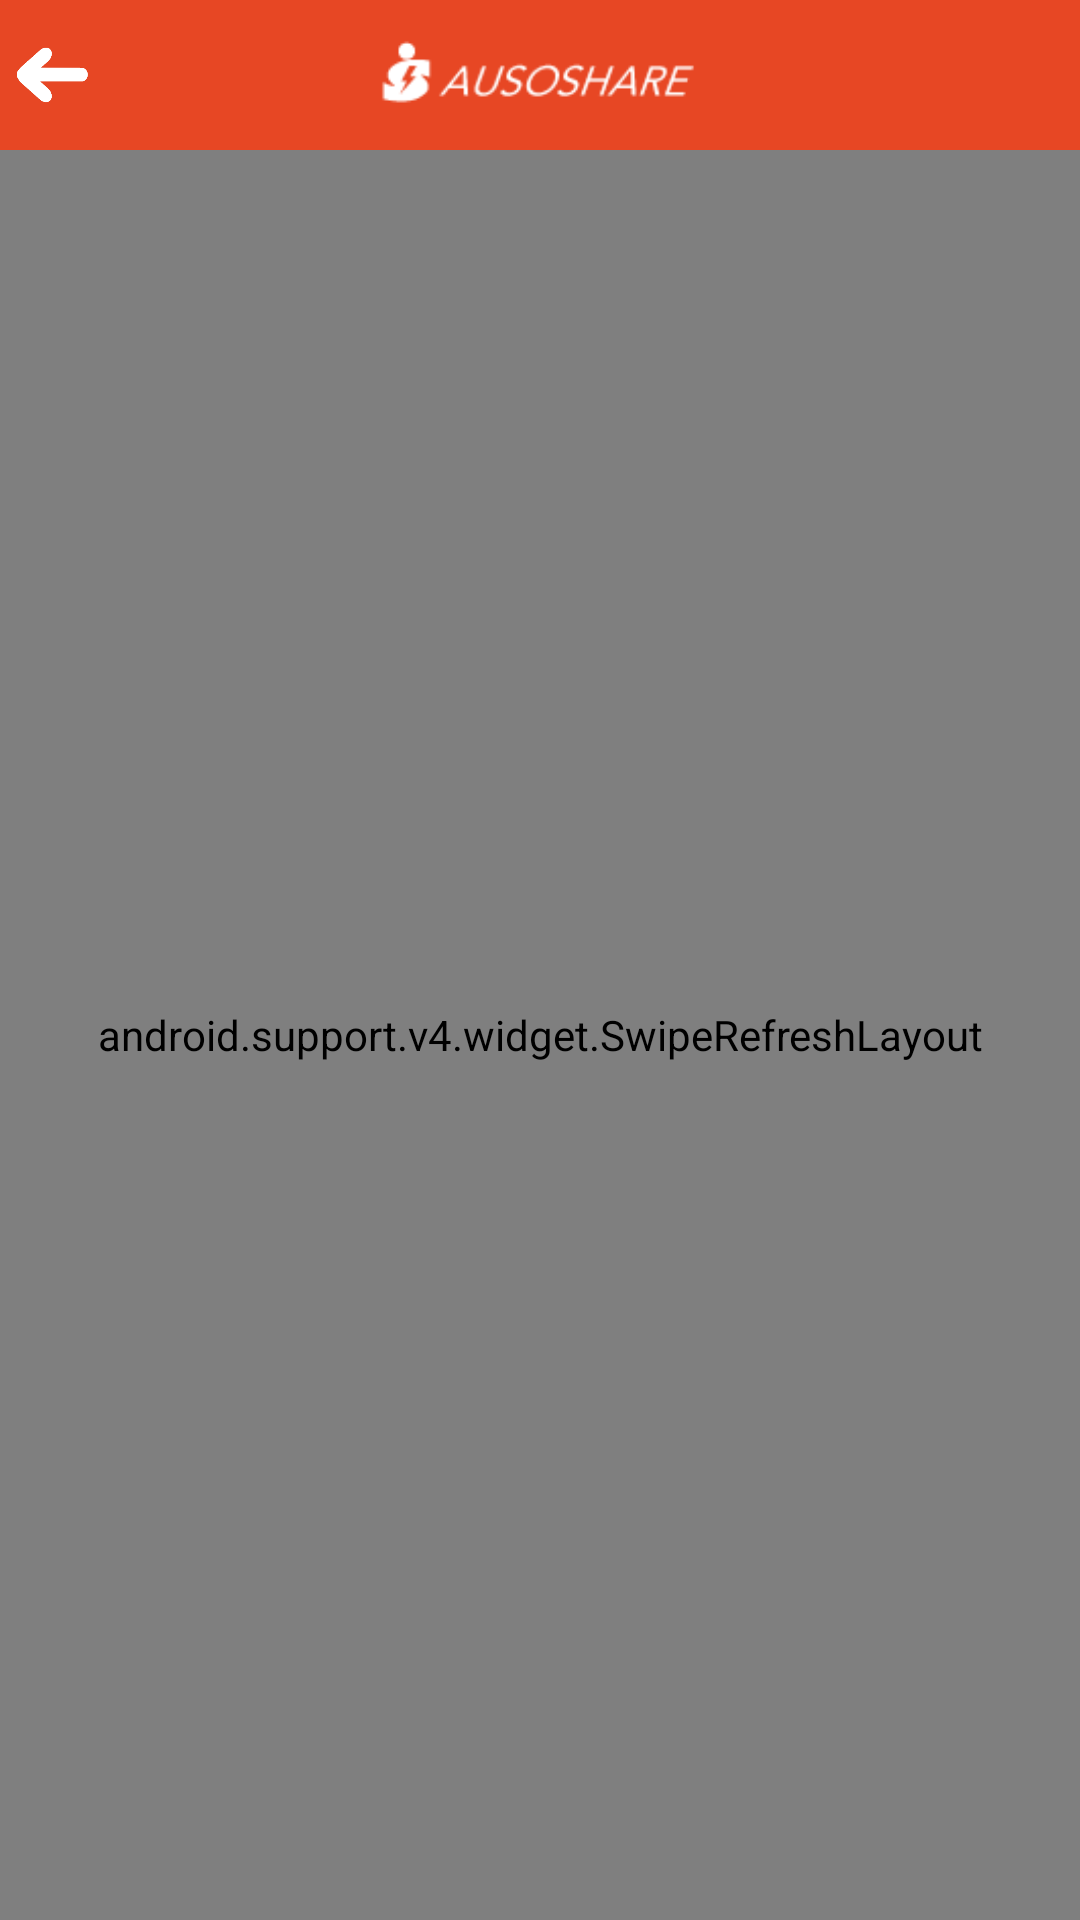

Icons on this 1080px×1920px Android screen, each with its box as rect(x1, y1, x2, y2):
left arrow: rect(17, 48, 88, 102)
